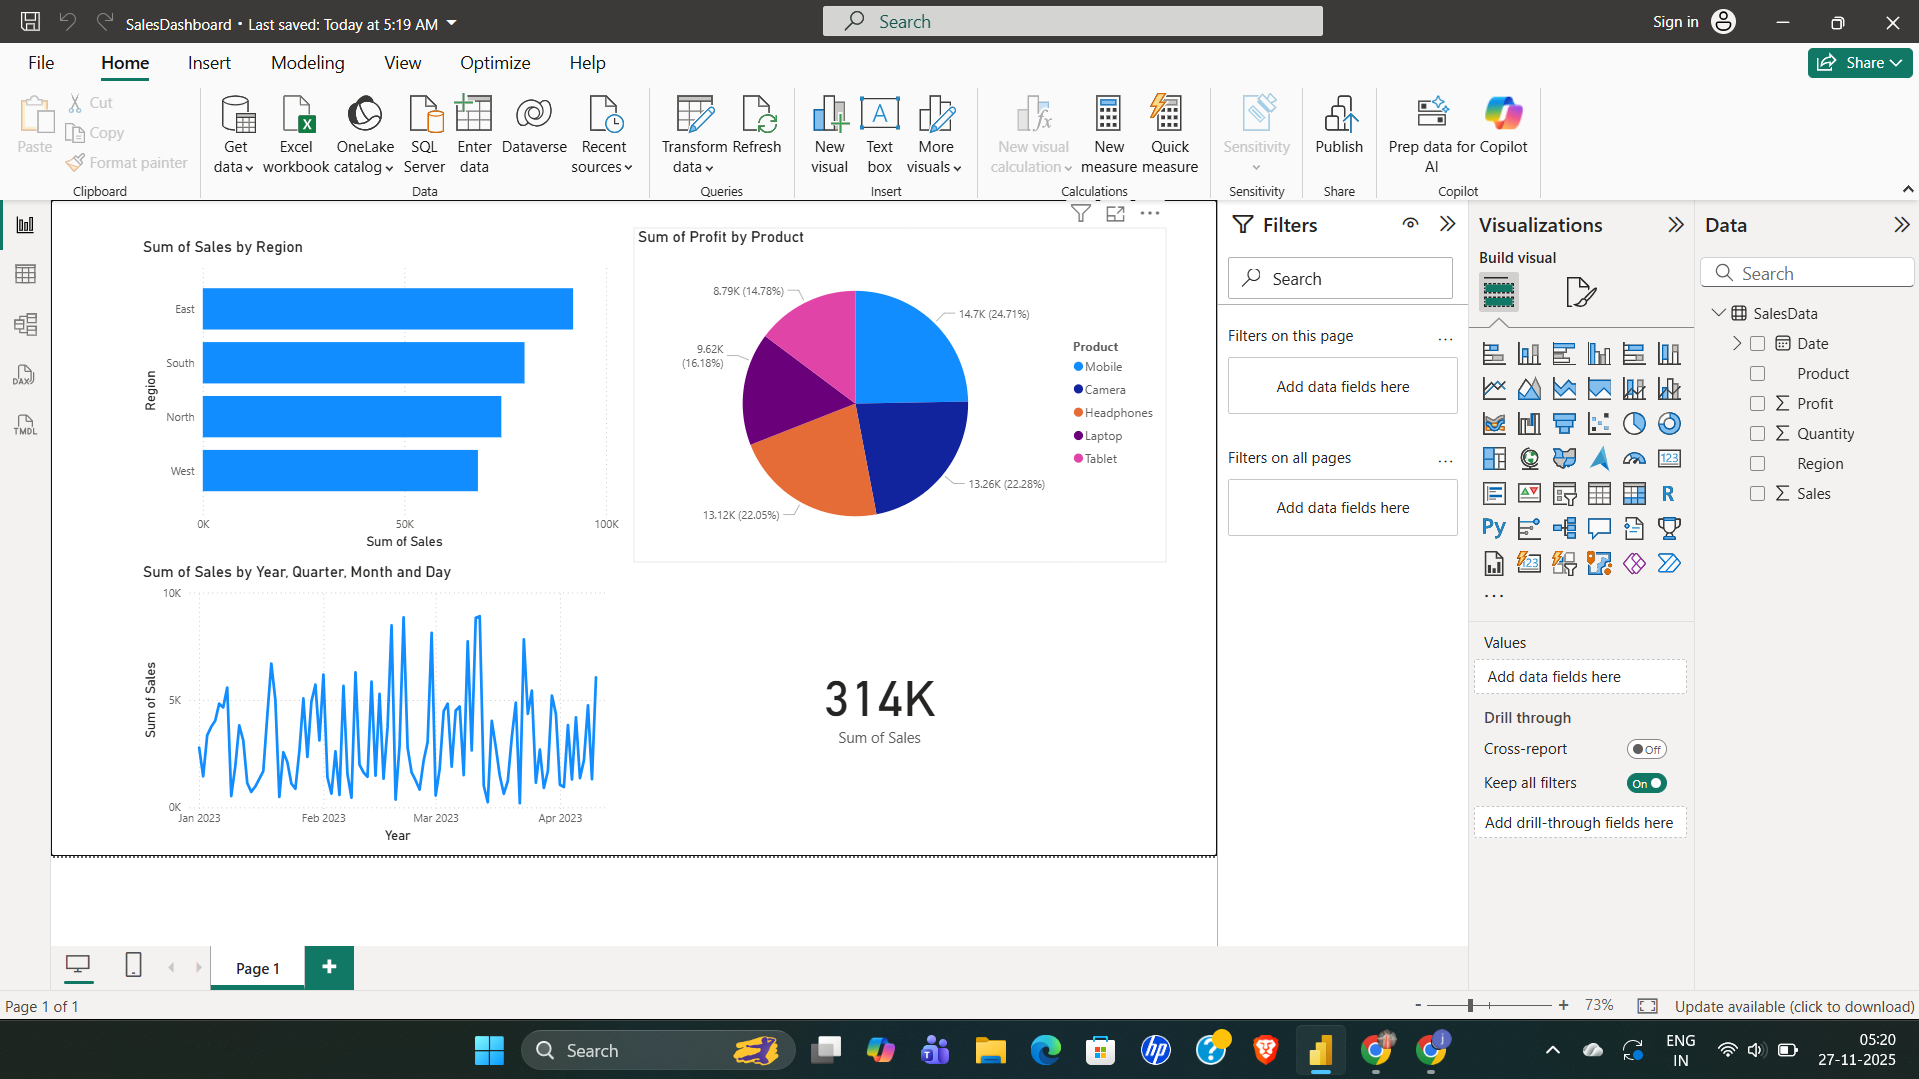

What the dashboard file says about the page in this screenshot:
{"tool":"powerbi","page":{"name":"Page 1","canvas":[1280,720],"ordinal":0},"visuals":[{"type":"barChart","fields":{"Y":["Sum(SalesData.Sales)"],"Category":["SalesData.Region"]},"box":[96.1,41.2,532.4,347.2],"z":0},{"type":"lineChart","fields":{"Y":["Sum(SalesData.Sales)"],"Category":["SalesData.Date.Variation.Date Hierarchy.Year","SalesData.Date.Variation.Date Hierarchy.Quarter","SalesData.Date.Variation.Date Hierarchy.Month","SalesData.Date.Variation.Date Hierarchy.Day"]},"box":[96.1,397.9,532.4,312.9],"z":1000},{"type":"pieChart","fields":{"Y":["Sum(SalesData.Profit)"],"Category":["SalesData.Product"]},"box":[639.5,30.2,584.6,367.8],"z":2000},{"type":"card","fields":{"Values":["Sum(SalesData.Sales)"]},"box":[690.2,415.8,439.1,270.3],"z":3000}]}

Visuals, with their boxes on the page's 1280x720 design canvas (x1, y1, x2, y2). These are canvas units, not pixel positions in the 1919x1079 screenshot, which may show the page scaled, cropped or inside an application window:
barChart - Sum(SalesData.Sales) x SalesData.Region: {"x1": 96, "y1": 41, "x2": 628, "y2": 388}
lineChart - Sum(SalesData.Sales) x SalesData.Date.Variation.Date Hierarchy.Year: {"x1": 96, "y1": 398, "x2": 628, "y2": 711}
pieChart - Sum(SalesData.Profit) x SalesData.Product: {"x1": 640, "y1": 30, "x2": 1224, "y2": 398}
card - Sum(SalesData.Sales): {"x1": 690, "y1": 416, "x2": 1129, "y2": 686}
